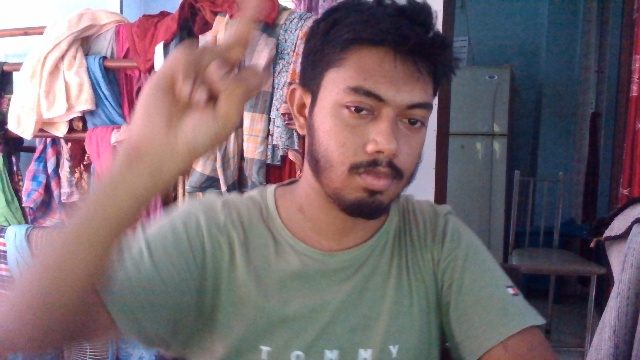fucku: (137, 2, 264, 178)
